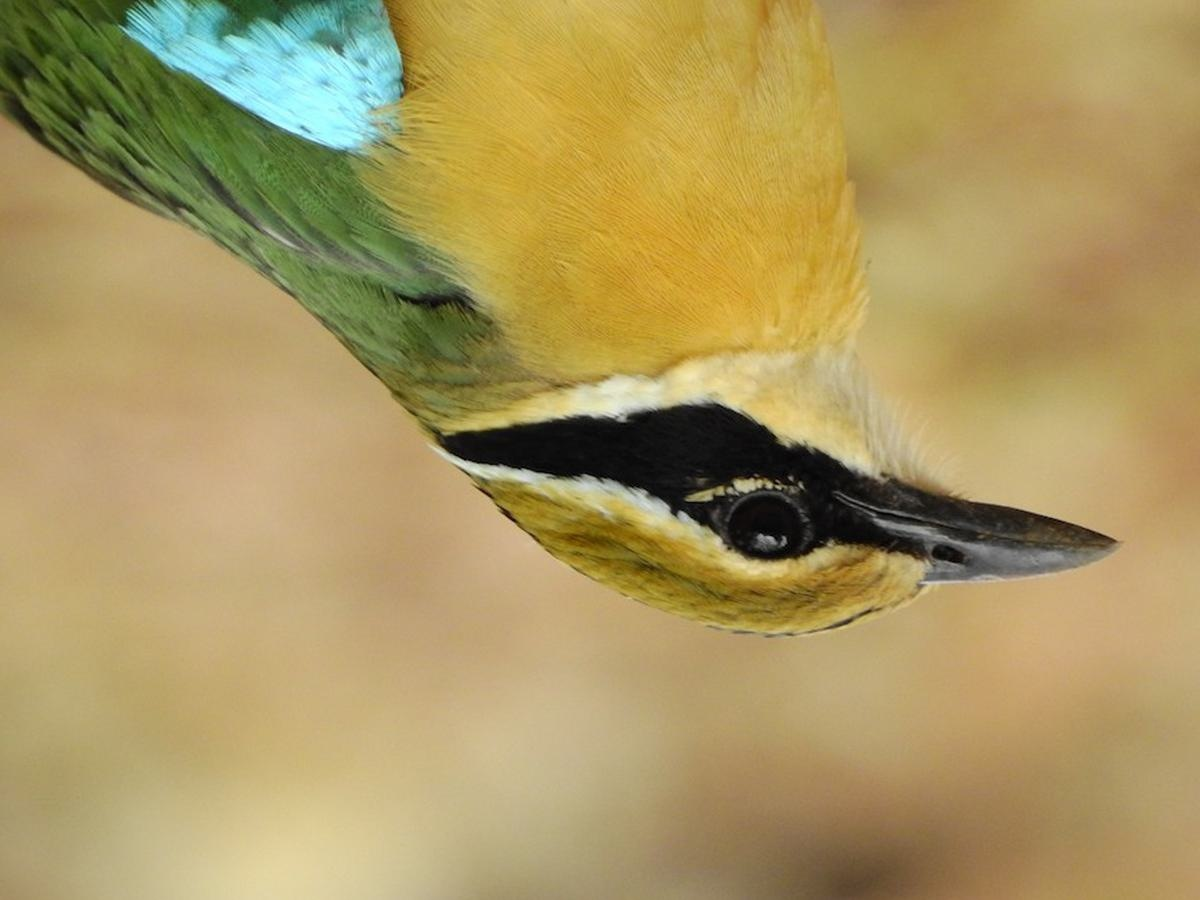pitta: (80, 1, 1138, 635)
